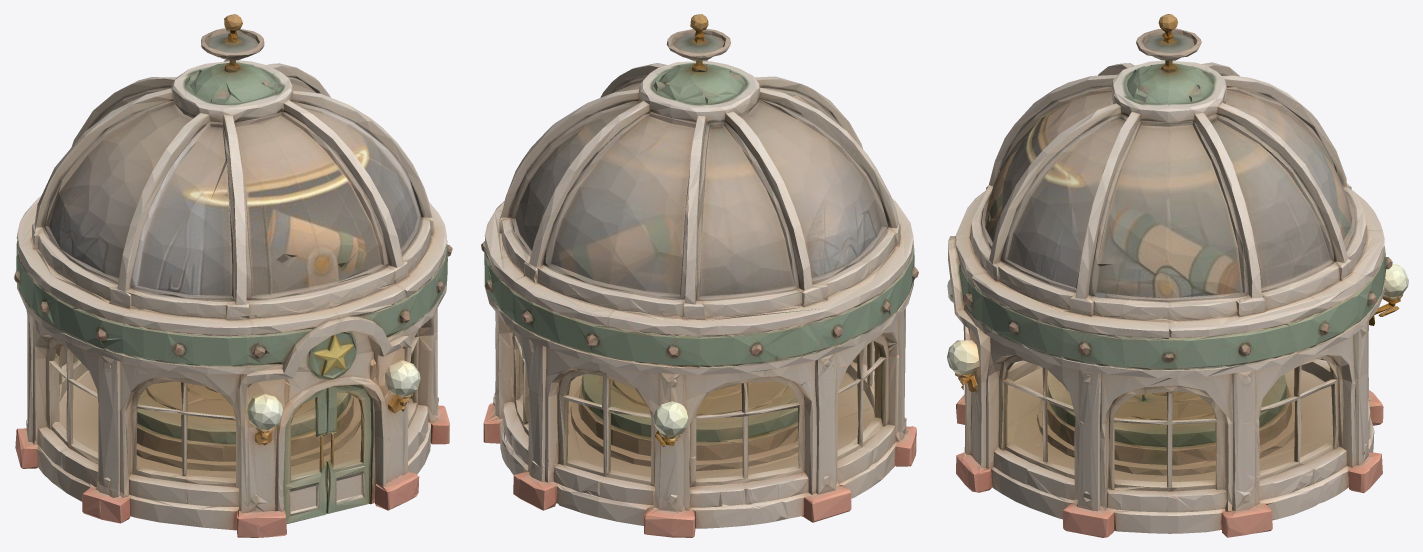
File: 05-glass-dome-pavilion.glb
3 views of the same model, side by side, from view 1: azimuth 30°, elevation 25°; view 2: azimuth 150°, elevation 25°; view 3: azimuth 270°, elevation 25° (orthographic).
Size of the model in its own units: 0.9262 by 0.9999 by 0.9604.
Materials: 1 (1 with a texture image).
